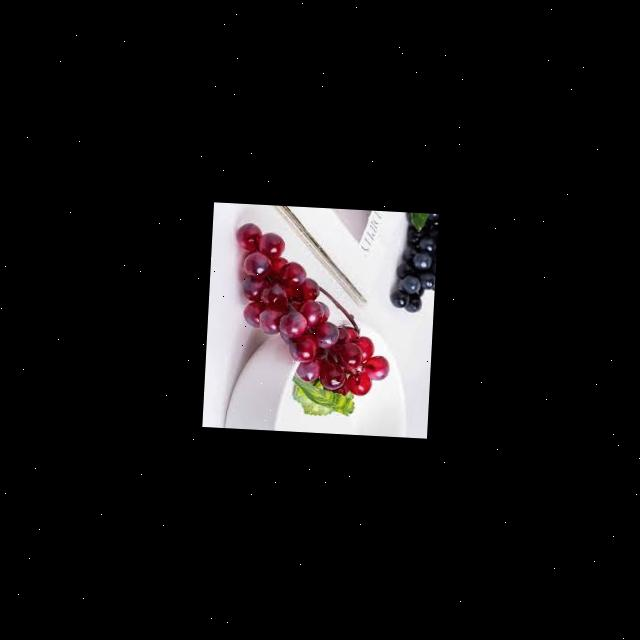grape: (228, 221, 398, 397), (389, 212, 438, 314)
